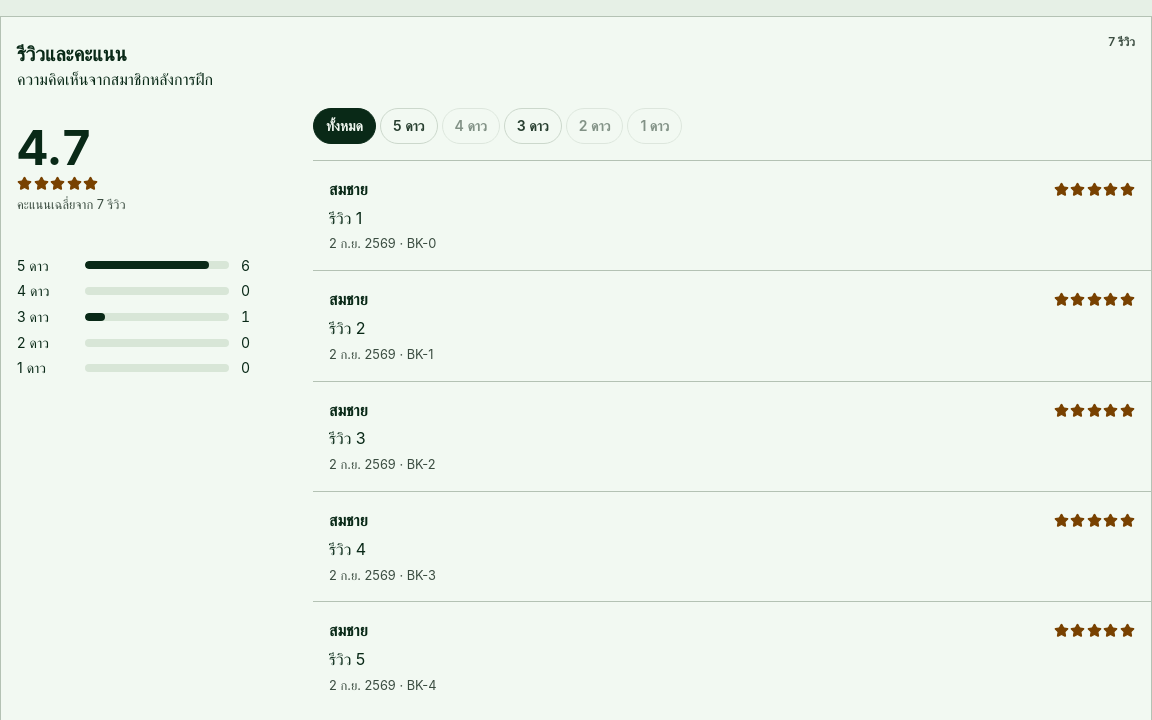
Test: Trainer members and reviews › filters reviews by star and pages five at a time
Expected: the number of list items is 5, [313,160,1151,270]; [313,270,1151,381]; [313,381,1151,491]; [313,491,1151,602]; [313,602,1151,712]
Click the button "3 ดาว" at (533,126), box [504,108,562,144]
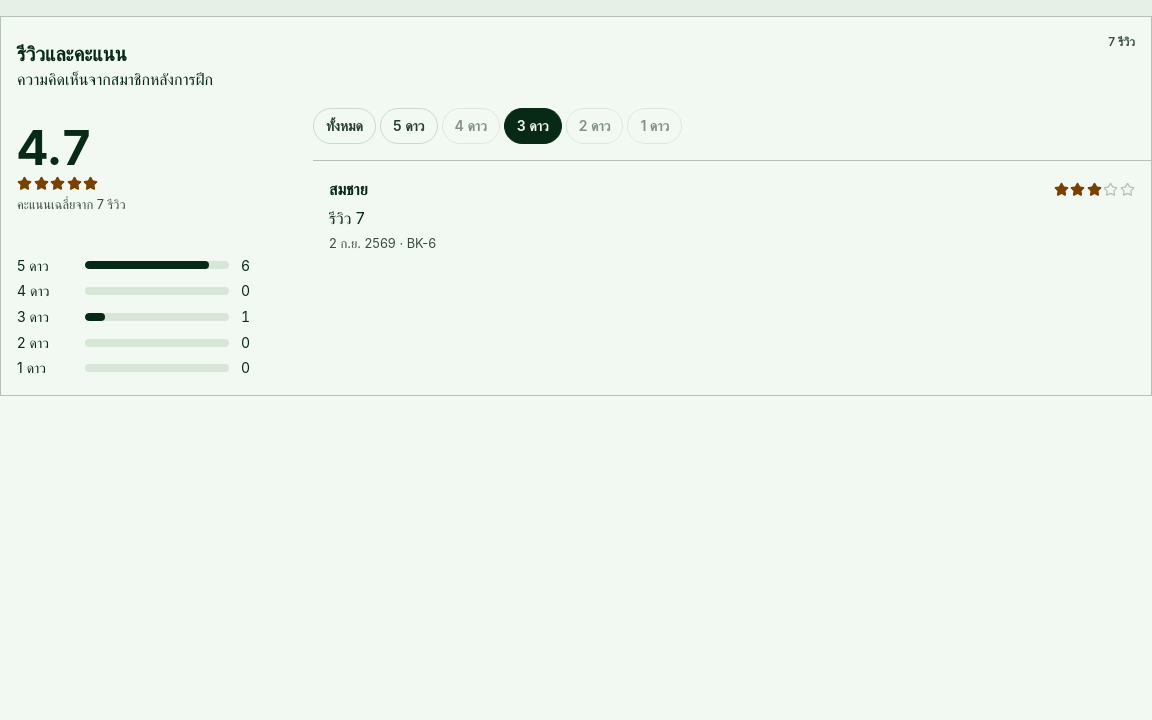
Expected: the button "4 ดาว" is disabled, [442,108,500,144]
Now the number of list items is 1, box [313,160,1151,270]
Now the text "รีวิว 7" is shown, box [329,208,365,228]
